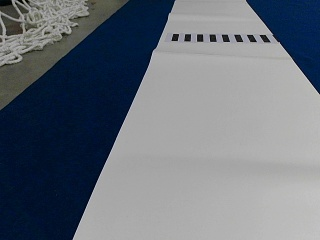crosswalk: (169, 32, 268, 43)
